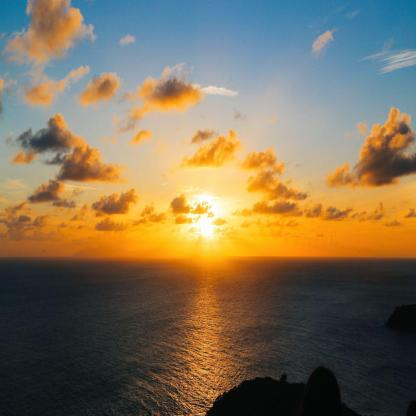other: (168, 187, 246, 262)
